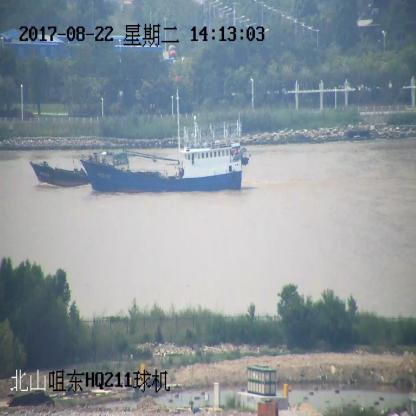Fishing Boat: (80, 76, 250, 194), (31, 151, 130, 188)
